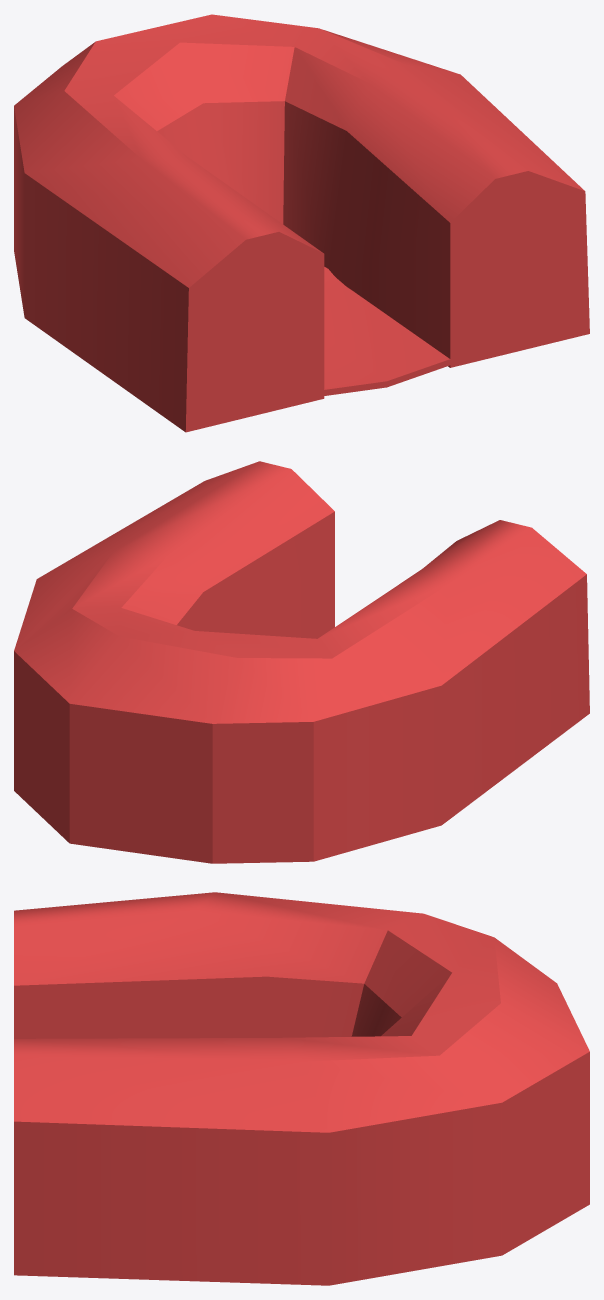
Rendered from Ground_End_COL.fbx.
3 renders of one model, top to bottom at view 1: azimuth 30°, elevation 25°; view 2: azimuth 150°, elevation 25°; view 3: azimuth 270°, elevation 25°, orthographic. The views are drawn at different scales.
Visible parts, largest first — view 1: Ground_End_COL; view 2: Ground_End_COL; view 3: Ground_End_COL.
Boxes of the visible parts, left/top/right/bottom form: Ground_End_COL: left=14, top=14, right=589, bottom=432; Ground_End_COL: left=14, top=461, right=589, bottom=863; Ground_End_COL: left=14, top=892, right=589, bottom=1285.
Size of the model in its own units: 659 by 290 by 729.
